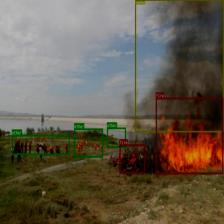fire: (155, 98, 223, 174), (119, 144, 145, 174)
smoke: (135, 0, 224, 132)
